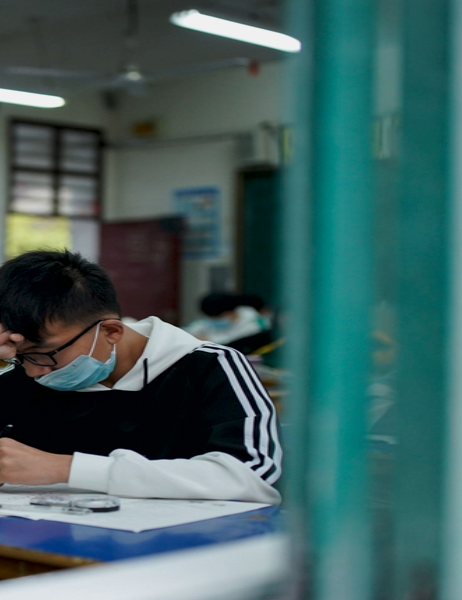mask_weared_incorrect: (1, 254, 113, 391)
